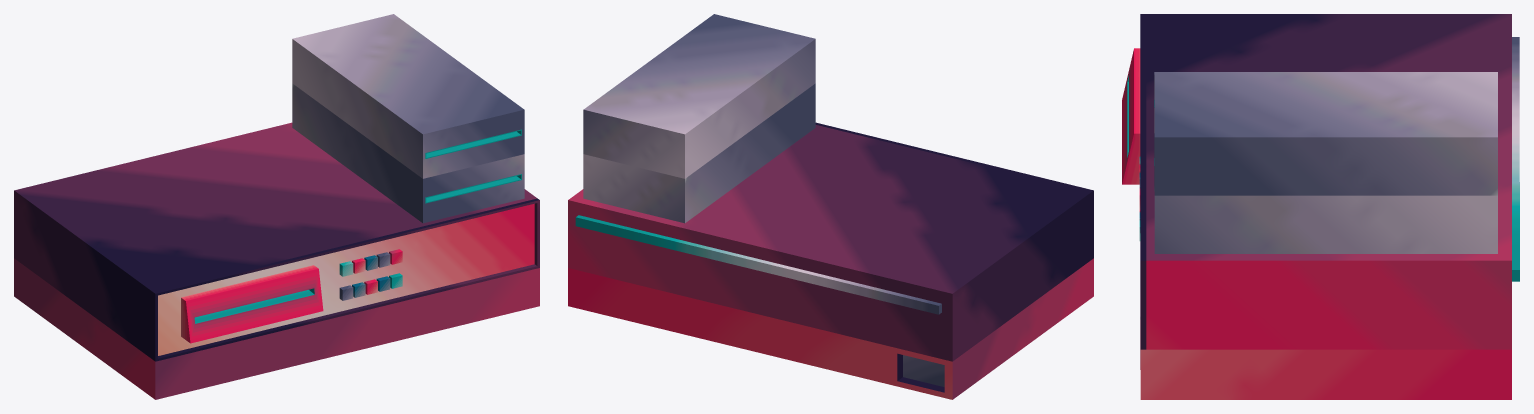
File: Structure_Retro_Computer_Art.fbx
The picture shows the model from 3 angles, left to right: view 1: azimuth 30°, elevation 25°; view 2: azimuth 150°, elevation 25°; view 3: azimuth 270°, elevation 25°; orthographic projection. The views are drawn at different scales.
Visible parts, largest first — view 1: Structure_Retro_Computer_Art; view 2: Structure_Retro_Computer_Art; view 3: Structure_Retro_Computer_Art.
Boxes of the visible parts, box(x1,y1,x2,y2) form: Structure_Retro_Computer_Art: box(14, 14, 539, 399); Structure_Retro_Computer_Art: box(568, 14, 1093, 399); Structure_Retro_Computer_Art: box(1122, 14, 1519, 399).
Size of the model in its own units: 4.92 by 2.39 by 3.36.
